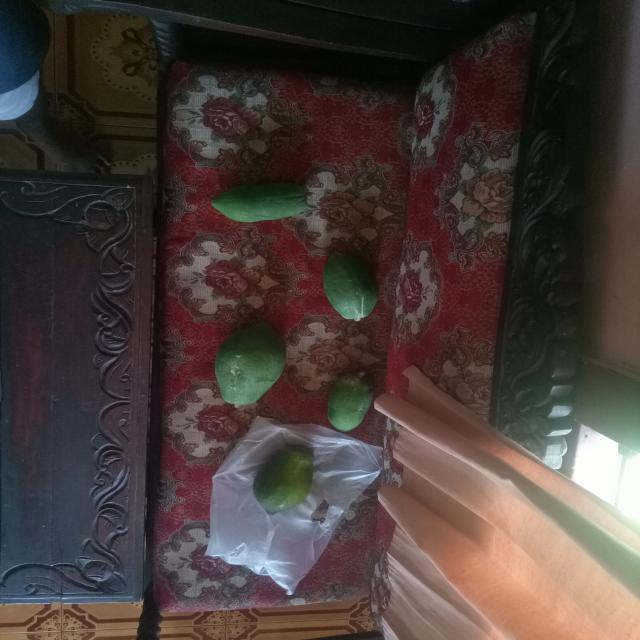Pepaya unrippen: (210, 325, 276, 409), (317, 246, 378, 330), (206, 185, 312, 226), (256, 436, 306, 510), (326, 369, 372, 437)
